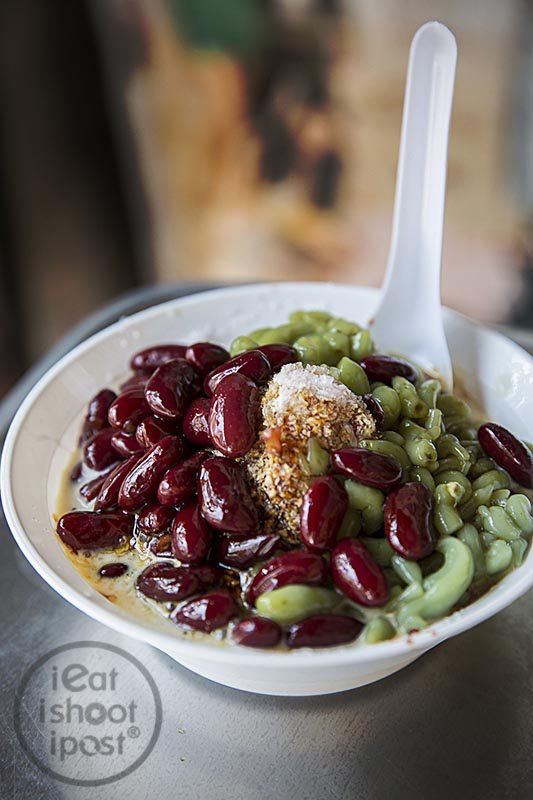Chendol: (67, 296, 526, 676)
